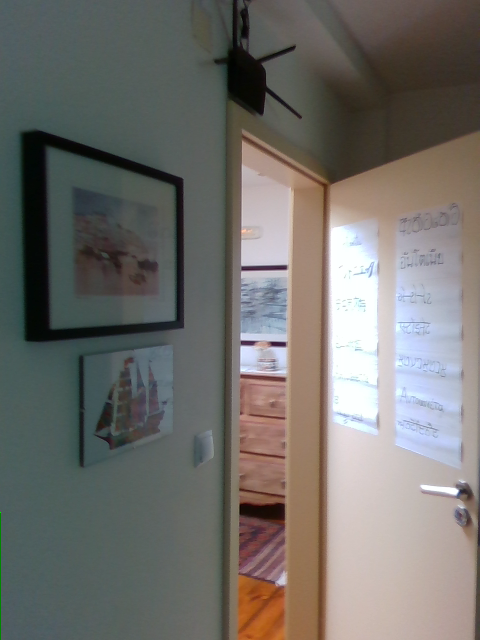semi: (222, 97, 479, 639)
